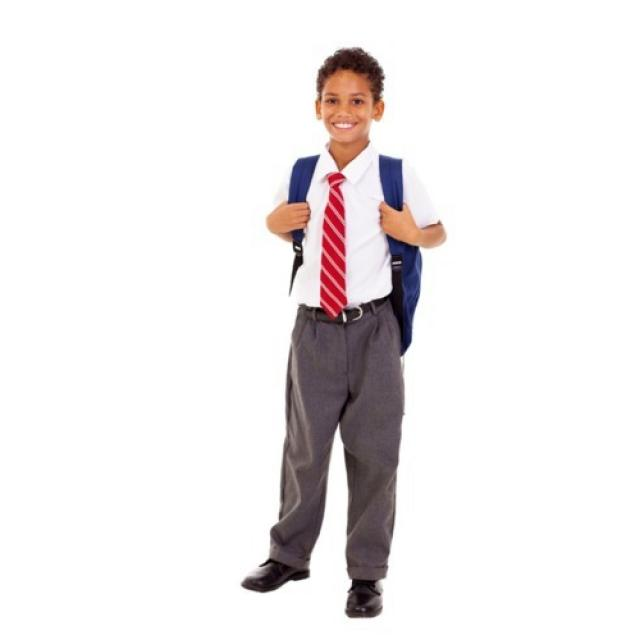child: (224, 33, 457, 622)
